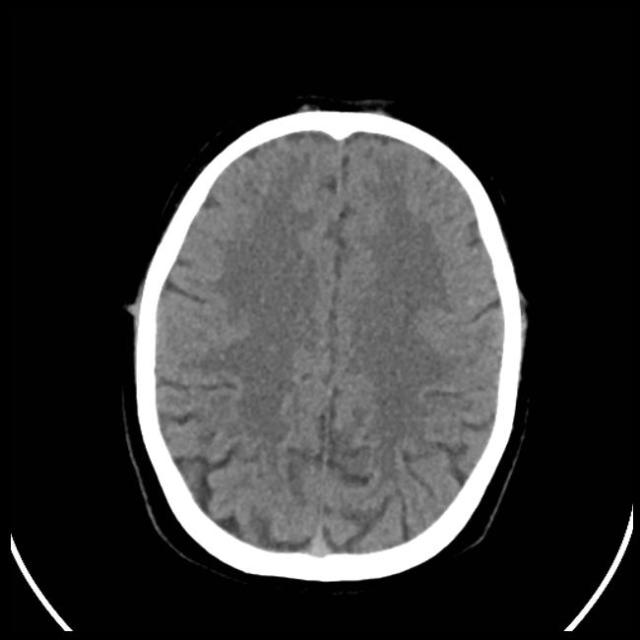lesion: (126, 104, 531, 575)
